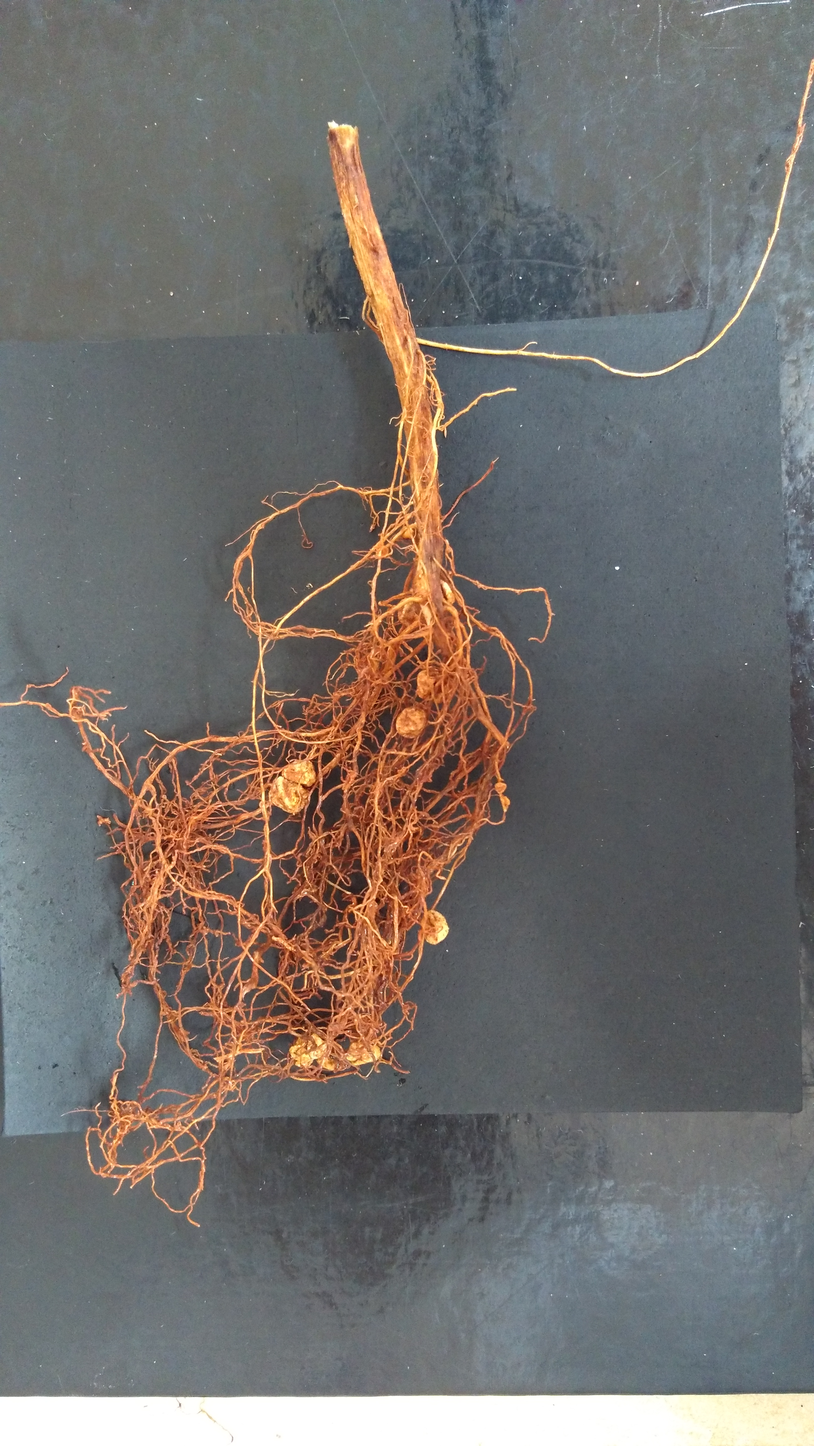nodule: (267, 774, 310, 816), (287, 1030, 328, 1070), (394, 704, 430, 740), (413, 668, 448, 705), (420, 909, 451, 947), (278, 759, 317, 789), (344, 1040, 383, 1068), (396, 596, 418, 628), (439, 578, 455, 608), (315, 1054, 338, 1073), (375, 545, 390, 559), (493, 781, 508, 795), (401, 525, 414, 541), (499, 795, 511, 812)
